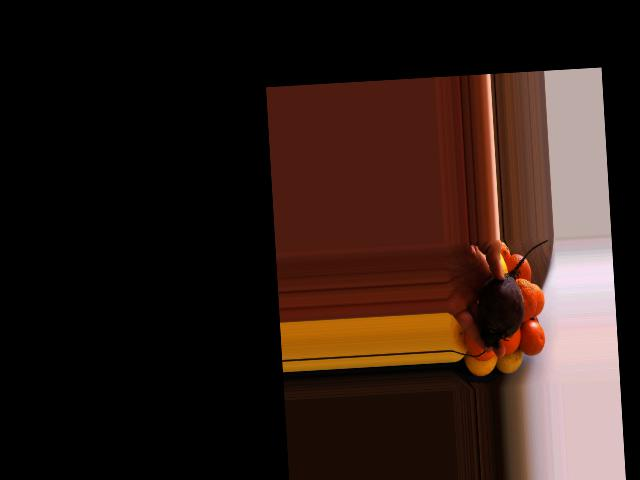beet: (474, 240, 553, 348)
